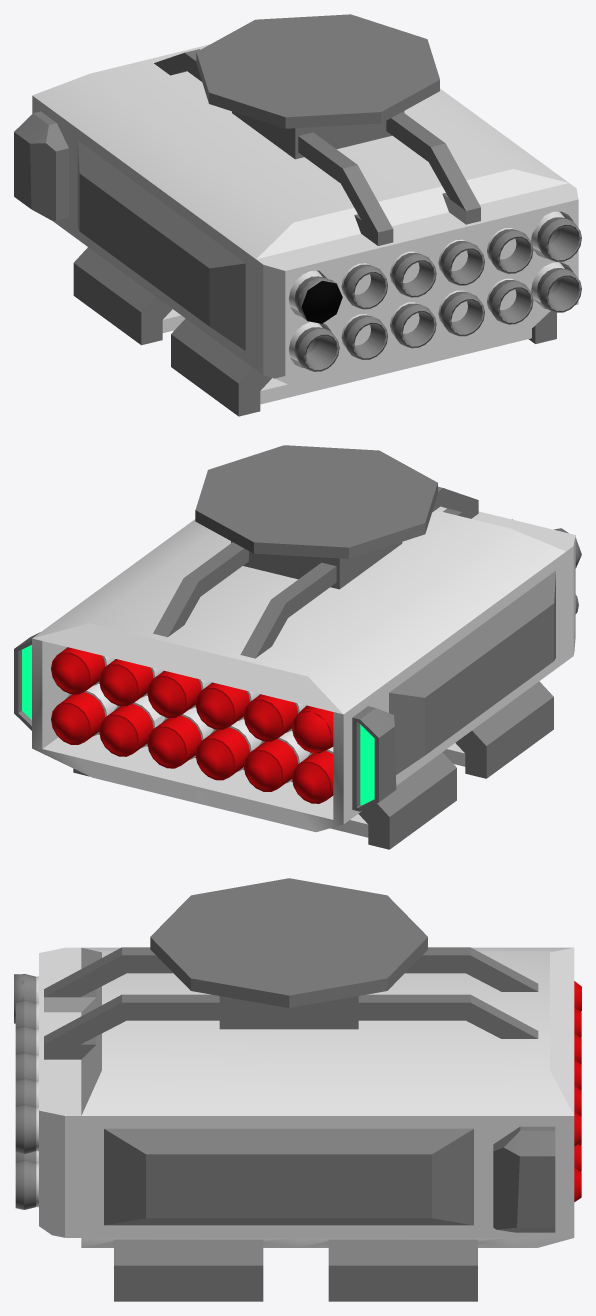
File: 2_RocketPod.fbx
3 renders of one model, top to bottom at view 1: azimuth 30°, elevation 25°; view 2: azimuth 150°, elevation 25°; view 3: azimuth 270°, elevation 25°, orthographic. The views are drawn at different scales.
Visible parts, largest first — view 1: MainBody, Mount, Missile.012, Missile.007, Missile.006, LowPoly_Missile, Missile.010, Missile.002, Missile.003, Missile.008, Missile.011, Missile.004 (+2 smaller); view 2: MainBody, Mount, Missile.010, Missile.009, Missile.012, Missile.008, Missile.011, Missile.006, Missile.004, Missile.005, Missile.003, Missile.002 (+2 smaller); view 3: MainBody, Mount, Missile.006, Missile.012, Missile.003, Missile.004, Missile.005, Missile.002, LowPoly_Missile.
Part boxes in pixels (left/top/right/bottom): MainBody: left=14, top=44, right=578, bottom=416; Mount: left=196, top=14, right=439, bottom=159; Missile.012: left=531, top=262, right=581, bottom=312; Missile.007: left=288, top=321, right=339, bottom=371; Missile.006: left=531, top=211, right=581, bottom=261; LowPoly_Missile: left=293, top=276, right=342, bottom=323; Missile.010: left=438, top=290, right=484, bottom=336; Missile.002: left=341, top=263, right=387, bottom=309; Missile.003: left=390, top=251, right=436, bottom=297; Missile.008: left=341, top=314, right=387, bottom=359; Missile.011: left=487, top=278, right=533, bottom=324; Missile.004: left=438, top=239, right=484, bottom=285; MainBody: left=14, top=486, right=575, bottom=849; Mount: left=195, top=445, right=437, bottom=589; Missile.010: left=147, top=707, right=213, bottom=768; Missile.009: left=195, top=719, right=261, bottom=780; Missile.012: left=51, top=683, right=117, bottom=744; Missile.008: left=243, top=731, right=309, bottom=791; Missile.011: left=99, top=695, right=161, bottom=756; Missile.006: left=51, top=647, right=114, bottom=694; Missile.004: left=147, top=670, right=211, bottom=718; Missile.005: left=99, top=659, right=163, bottom=706; Missile.003: left=195, top=682, right=259, bottom=729; Missile.002: left=243, top=519, right=512, bottom=741; MainBody: left=39, top=947, right=574, bottom=1301; Mount: left=150, top=878, right=427, bottom=1029; Missile.006: left=15, top=1104, right=581, bottom=1153; Missile.012: left=15, top=1160, right=581, bottom=1209; Missile.003: left=15, top=1026, right=581, bottom=1063; Missile.004: left=15, top=1052, right=581, bottom=1089; Missile.005: left=15, top=1078, right=581, bottom=1115; Missile.002: left=15, top=1000, right=581, bottom=1037; LowPoly_Missile: left=14, top=974, right=581, bottom=1023.
Bounding box in the file's own units: 336 × 222 × 409.
